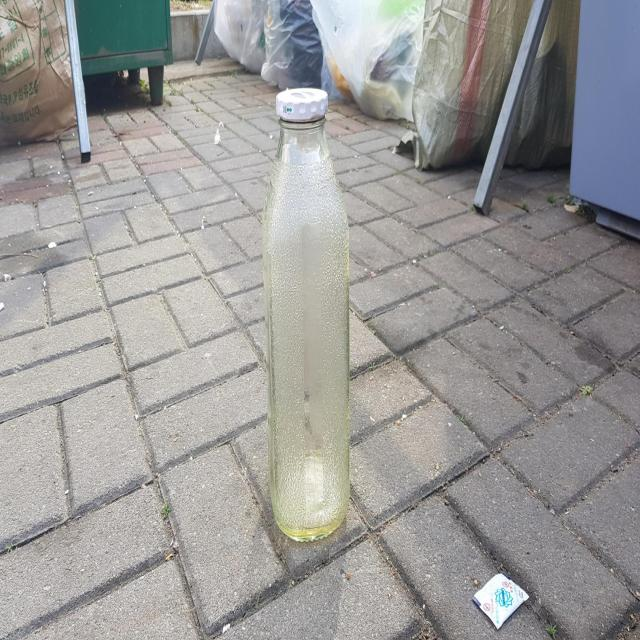glass: (263, 85, 350, 540)
